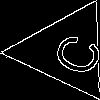C: (40, 26, 100, 80)
